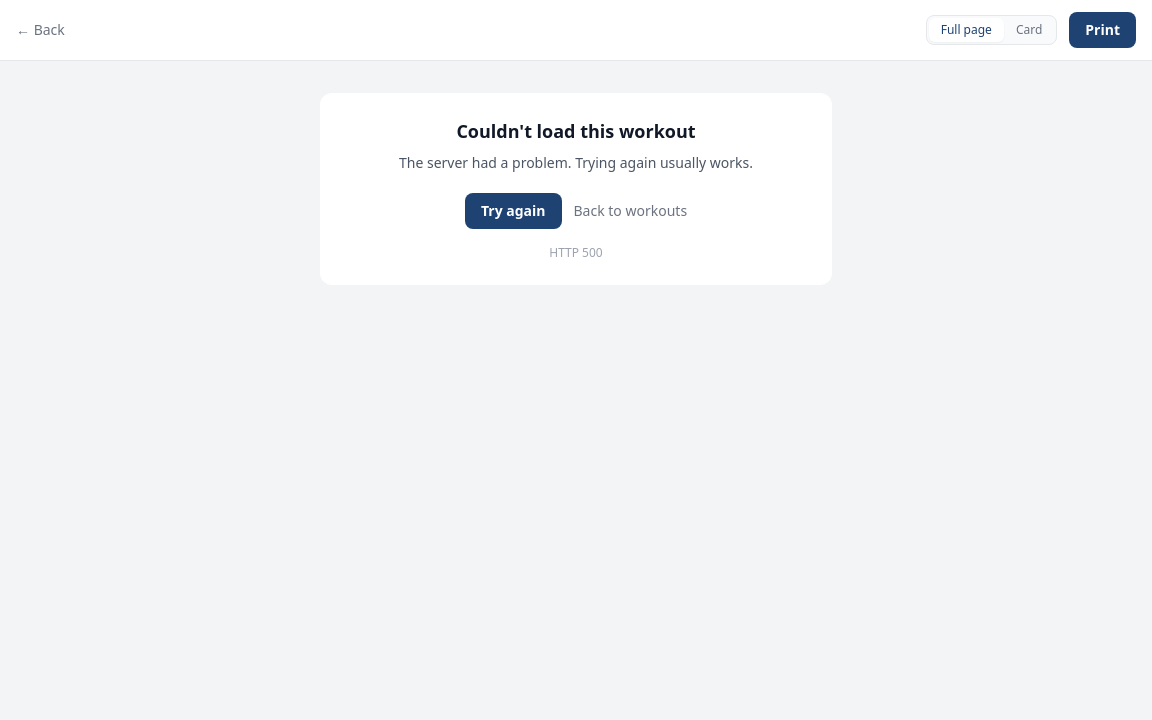
Test: WorkoutPrintView failure state (SB-523) › offers a retry that actually refetches
The width and height of the screenshot is (1152, 720).
Click the button with test id "print-retry".
click(513, 211)  # box [465,193,562,229]
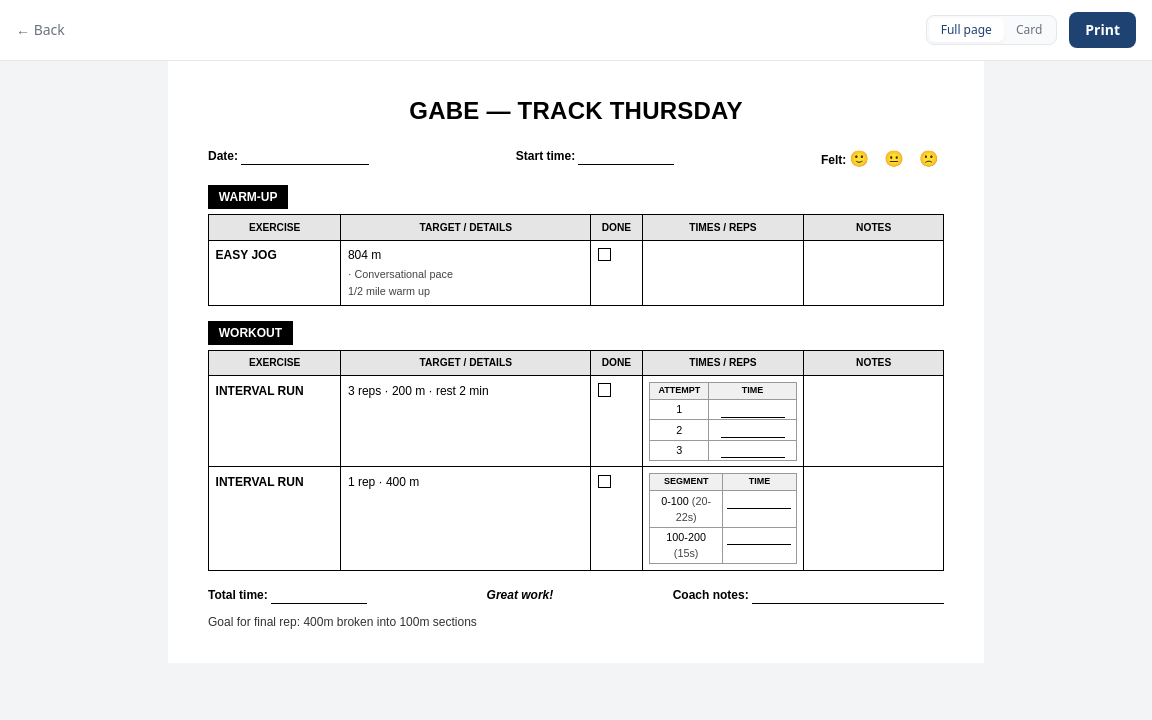
Expected: the text "Track Thursday" is shown, [409,97,743,124]
